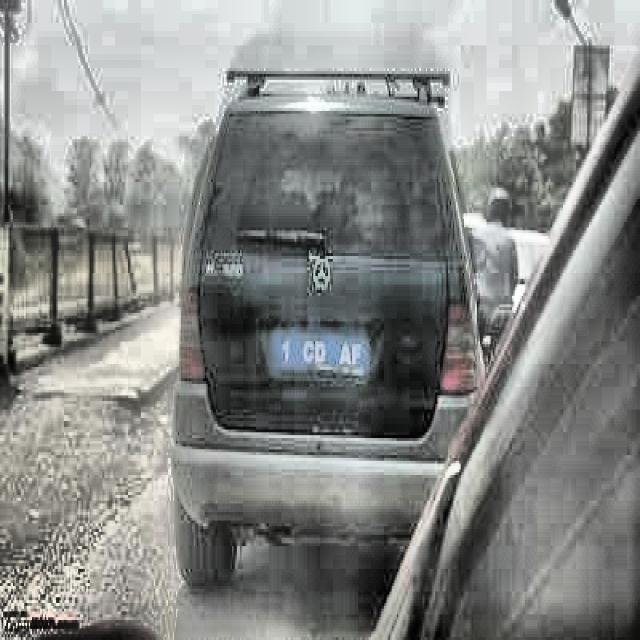license_plate: (273, 318, 371, 384)
